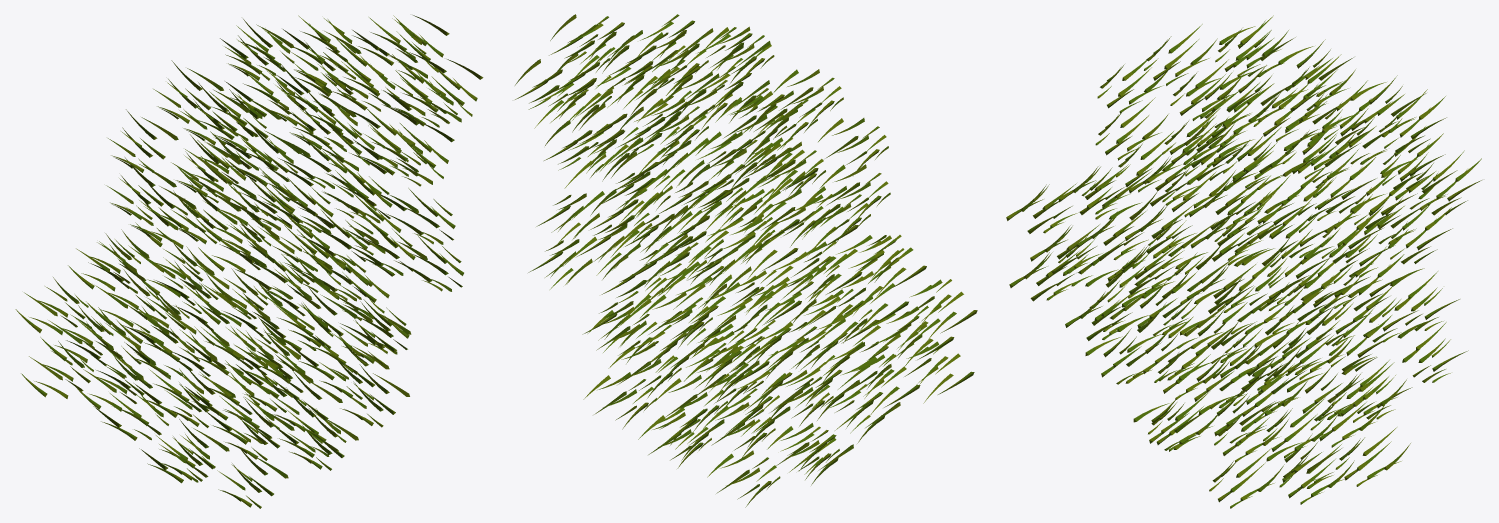
Rendered from grass (3).fbx.
The picture shows the model from 3 angles, left to right: view 1: azimuth 30°, elevation 25°; view 2: azimuth 150°, elevation 25°; view 3: azimuth 330°, elevation 25°; orthographic projection. The views are drawn at different scales.
Visible parts, largest first — view 1: grass.192; view 2: grass.192; view 3: grass.192.
Part boxes in pixels (x1,y1,x2,y2): grass.192: (15,15,483,508); grass.192: (515,14,977,507); grass.192: (1006,15,1481,508).
Bounding box in the file's own units: 222 × 1614 × 1617.
